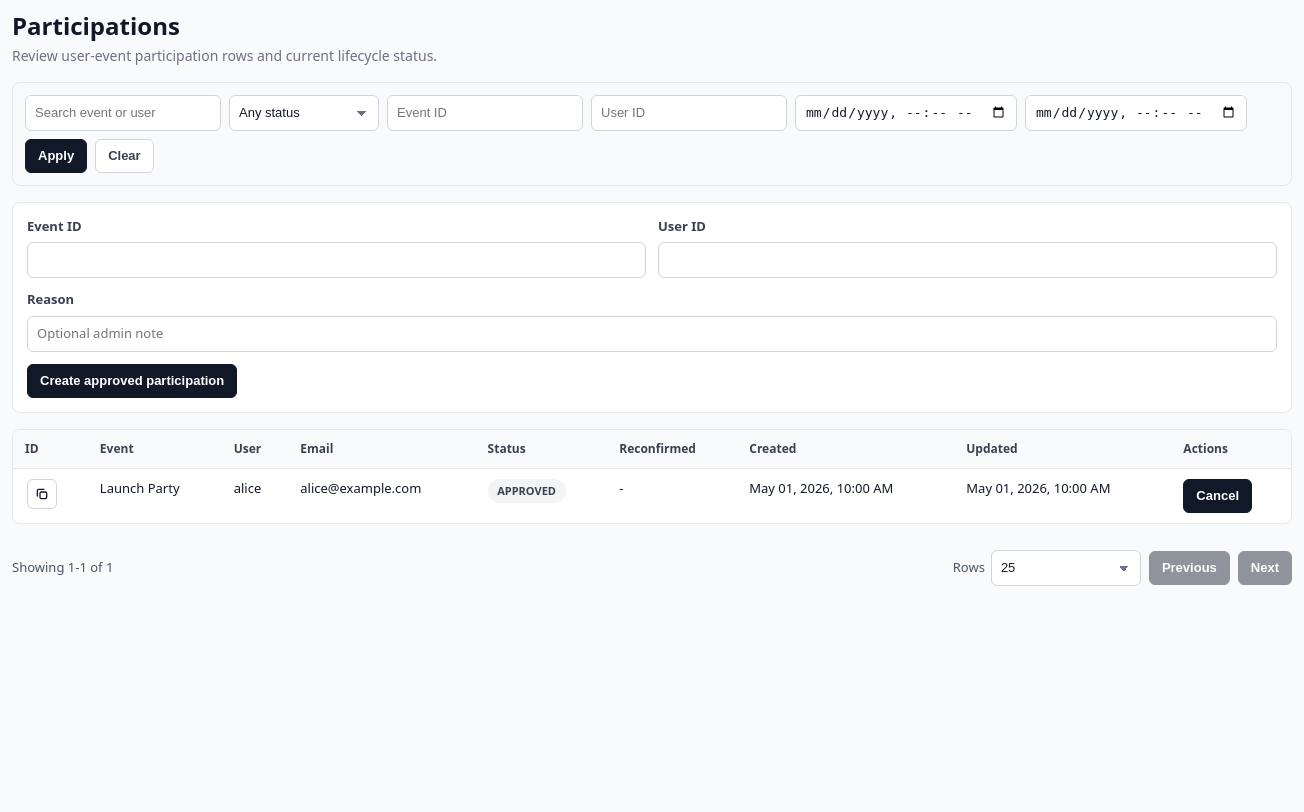
Scenario: ParticipationsAdminPage › creates an approved manual participation and refreshes the table
Expected: the text "Launch Party" is shown, [88,468,222,523]
In the field named "Manual event ID": (336, 260) [27,242,646,278], type "11111111-1111-4111-8111-111111111111"
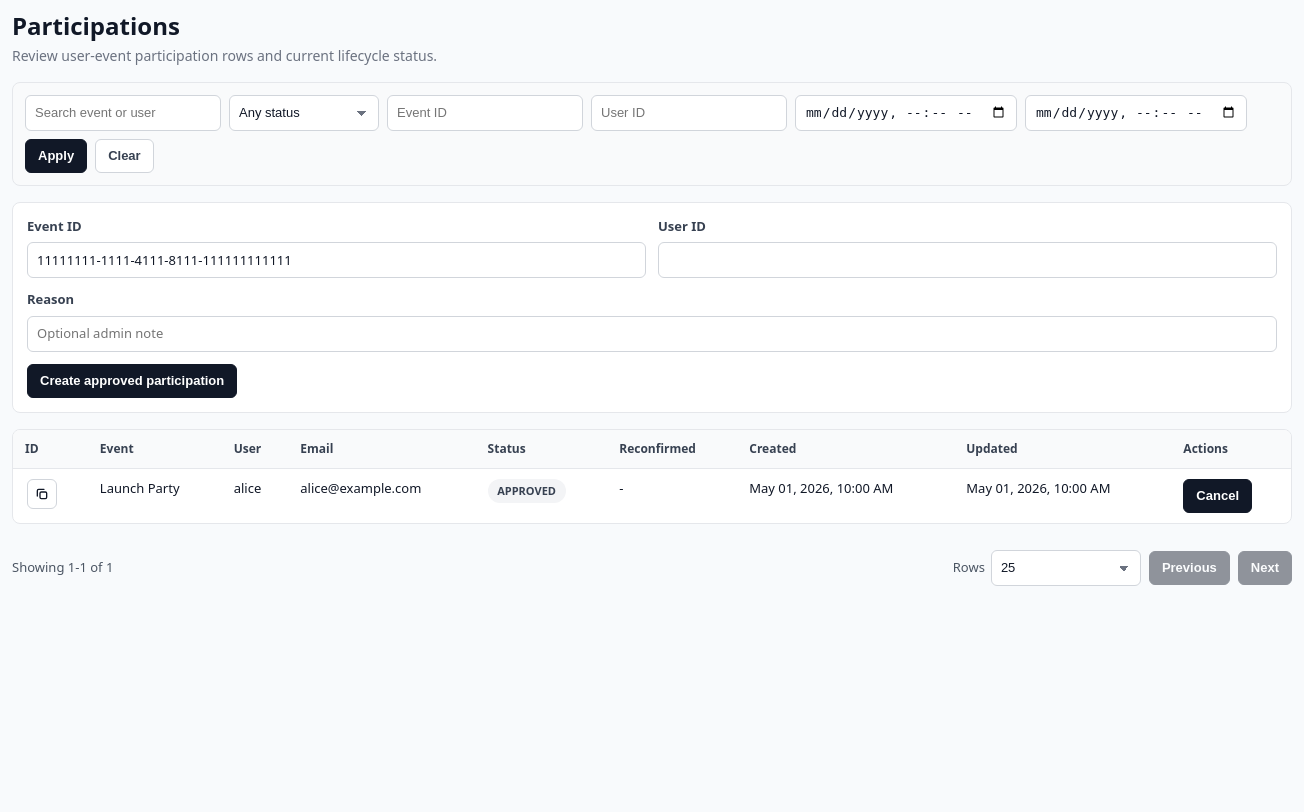
In the field named "Manual user ID": (968, 260) [658,242,1277,278], type "22222222-2222-4222-8222-222222222222"
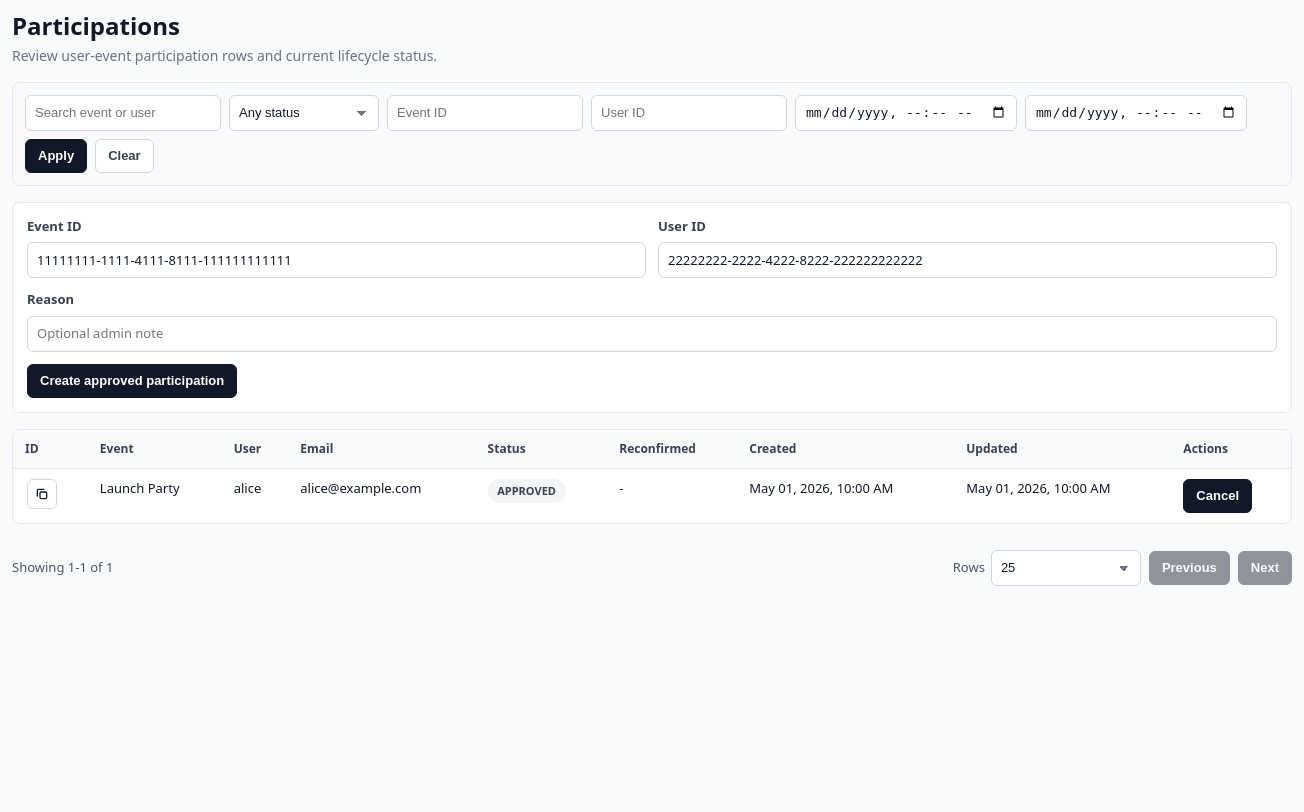
Click the button "Create approved participation": (132, 381) [27,364,237,398]
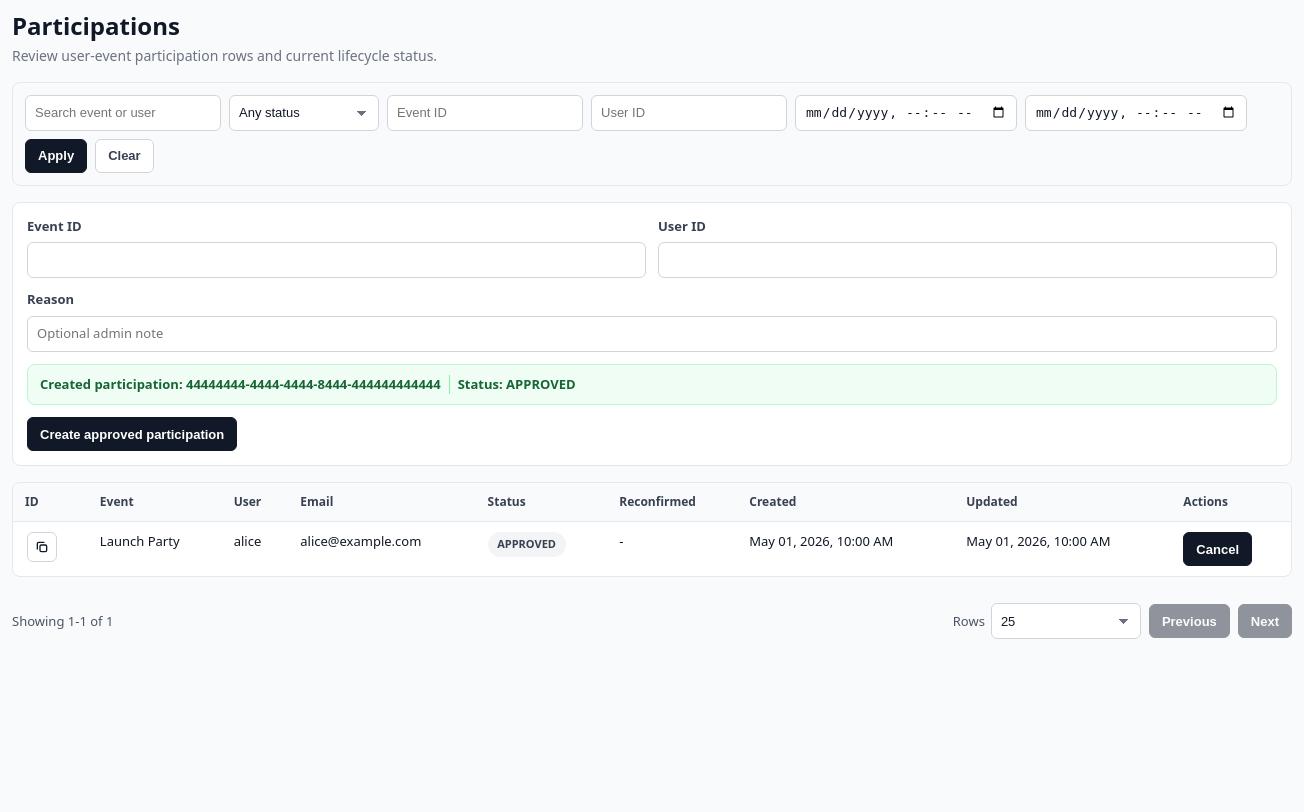
Expected: the text "Created participation: 44444444-4444-4444-8444-444444444444" is shown, [40,375,450,394]
